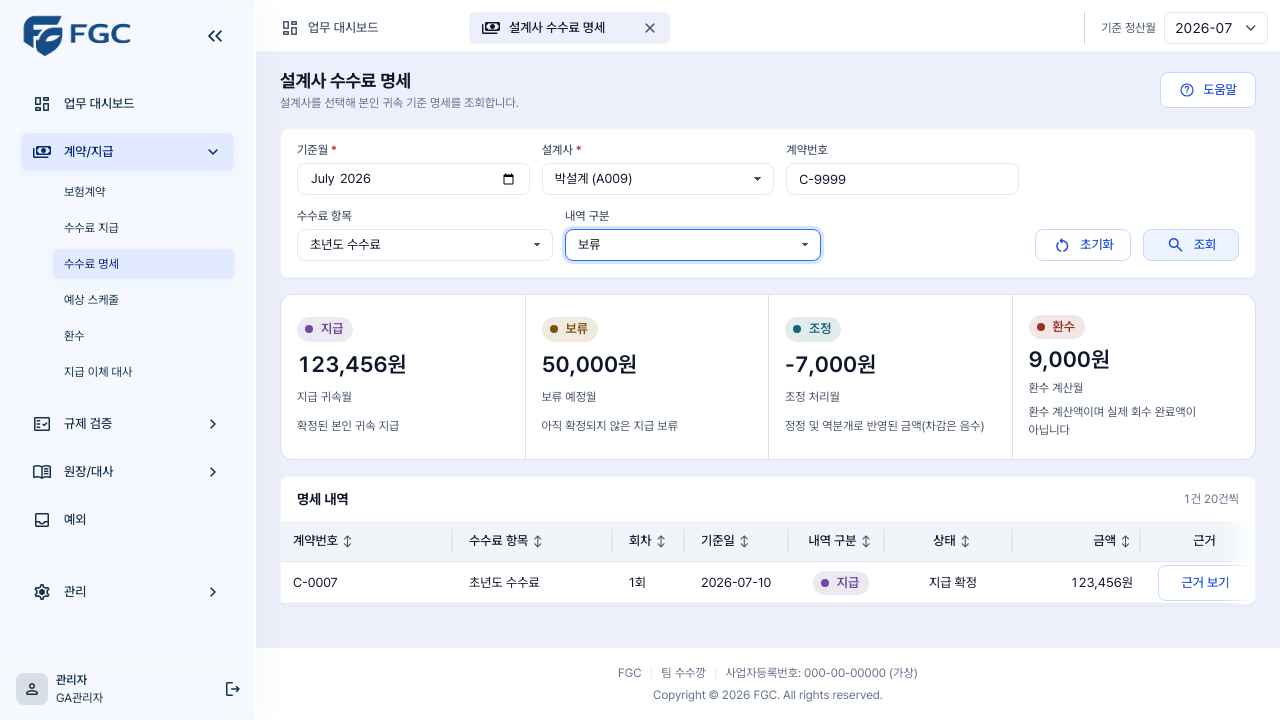
Test: RPT-W02 설계사 수수료 명세 › 조회 전 입력도 초기화하고 반복 초기화 시 기준월과 내부 설계사 선택을 유지한다
Earlier steps of the test are not shown.
Replace the text in the field labelled "기준월 *" with "2026-08". click: (413, 179)
box: top-left (297, 163), bottom-right (530, 195)
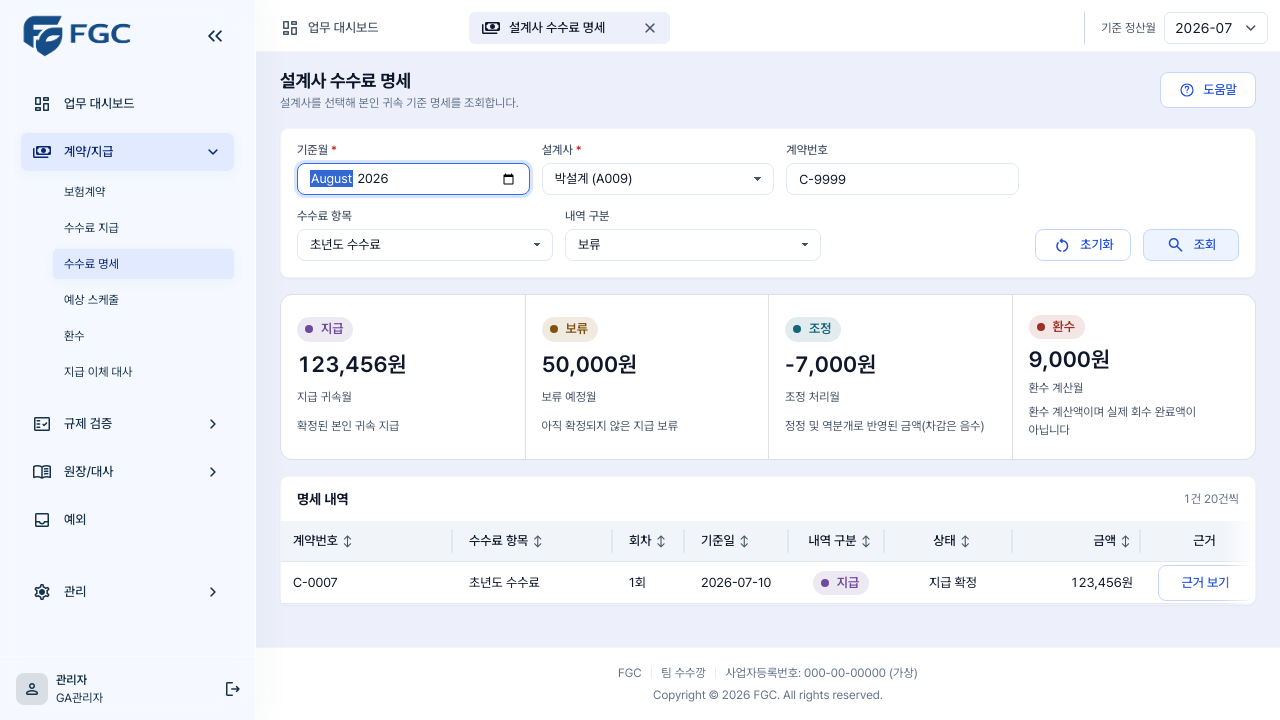
Click the button "초기화". click: (1083, 245)
box: top-left (1035, 229), bottom-right (1131, 261)
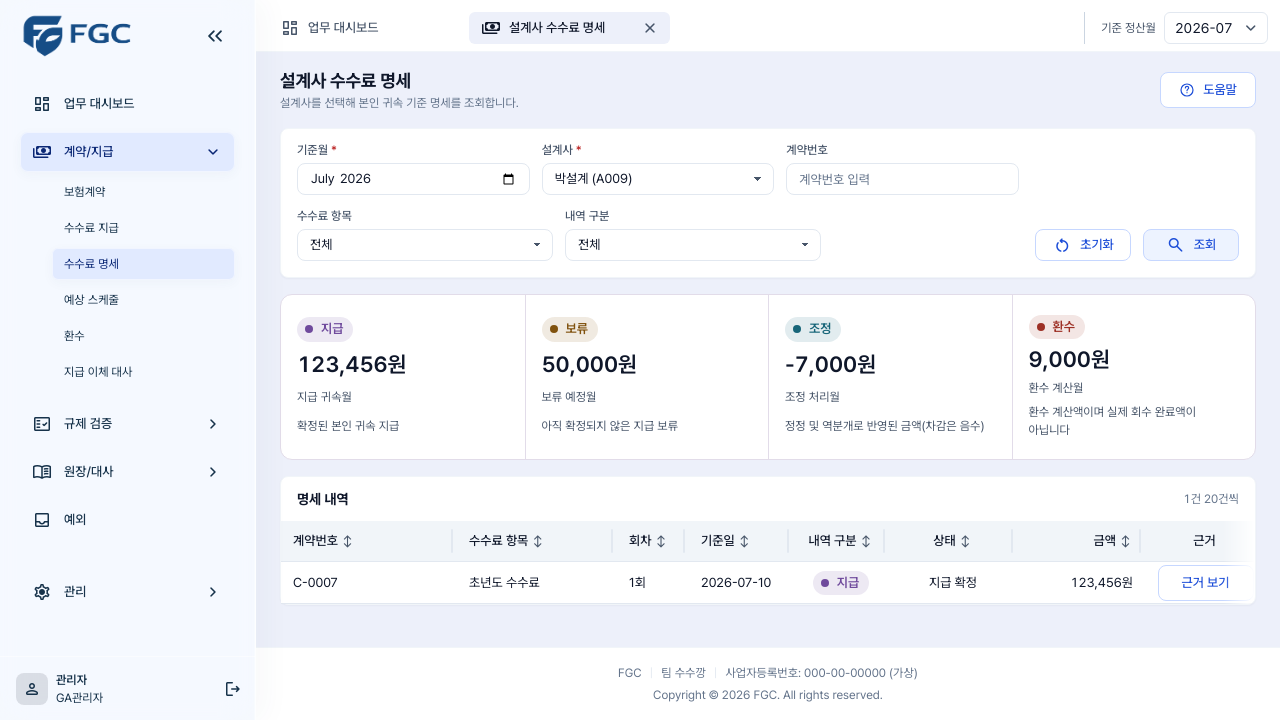
Expected: the search field with placeholder "계약번호 입력" is empty
Expected: the field labelled "기준월 *" holds "2026-07", top-left (297, 163), bottom-right (530, 195)
Expected: the dropdown labelled "수수료 항목" shows "전체", top-left (297, 229), bottom-right (553, 261)
Type "C-8888" into the search field with placeholder "계약번호 입력". click: (903, 179)
box: top-left (786, 163), bottom-right (1019, 195)
Select "초년도 수수료" in the dropdown labelled "수수료 항목". click: (425, 245)
box: top-left (297, 229), bottom-right (553, 261)
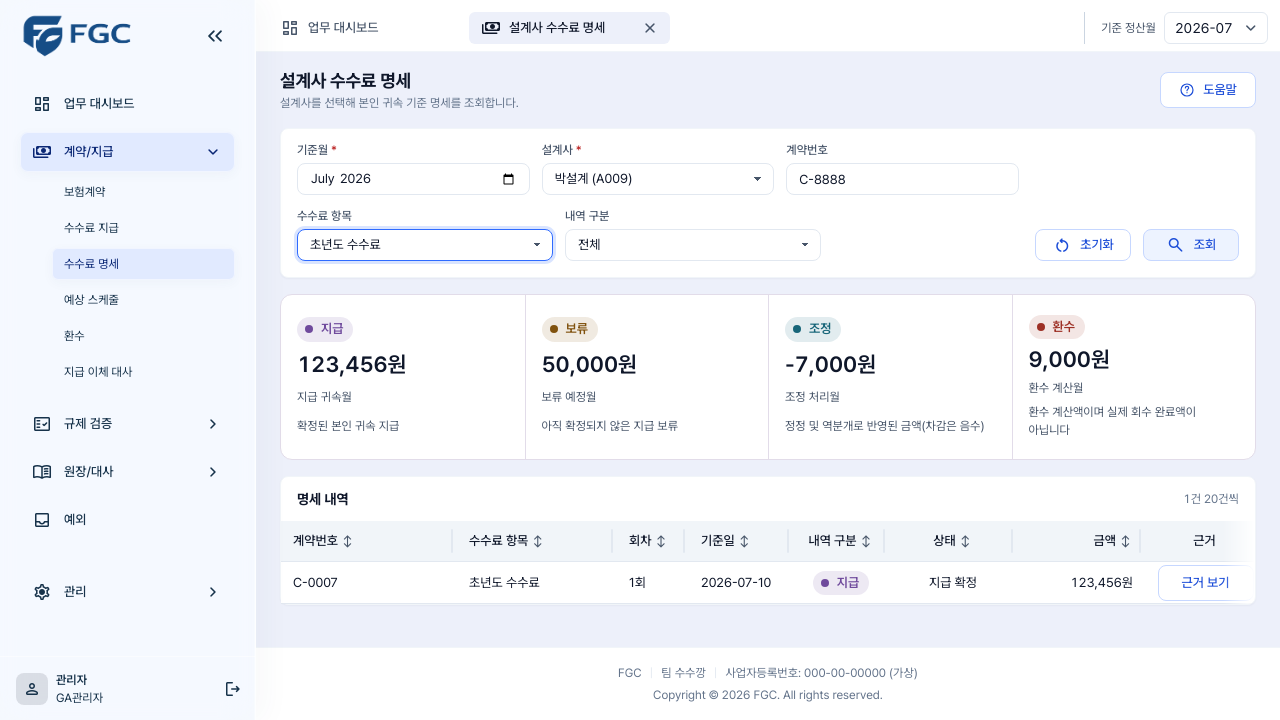
Select "보류" in the dropdown labelled "내역 구분". click: (693, 245)
box: top-left (565, 229), bottom-right (821, 261)
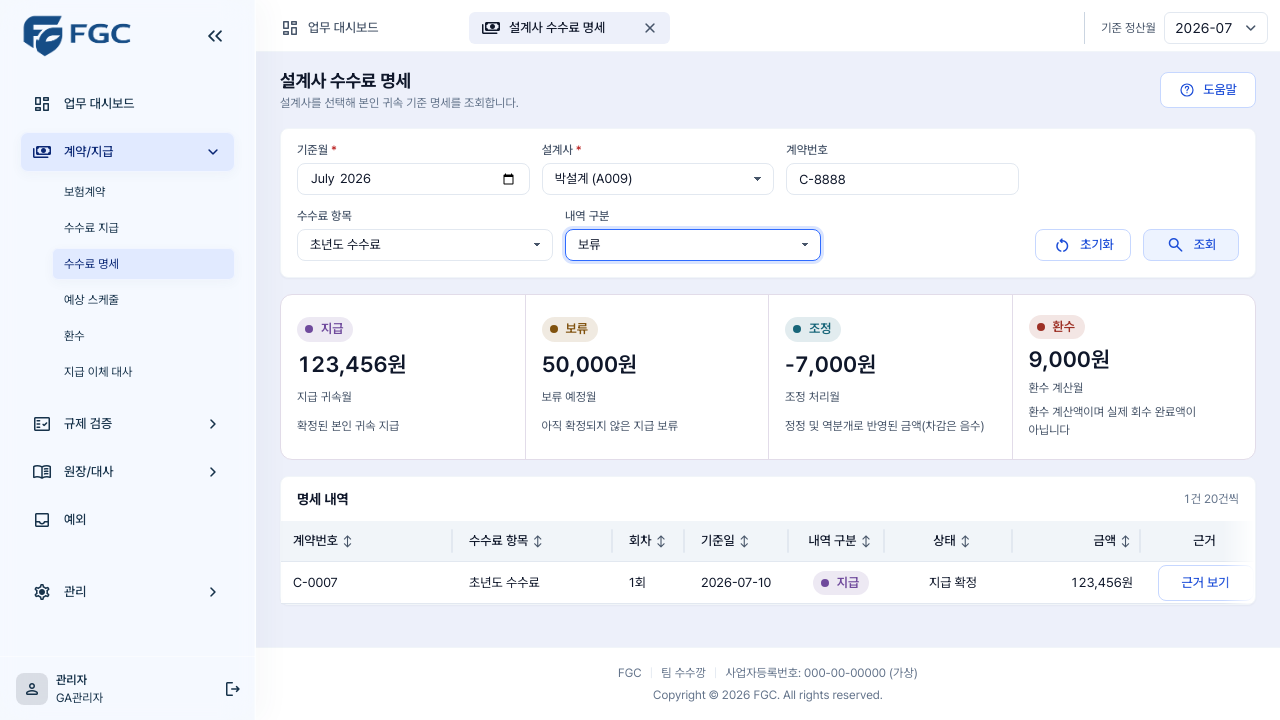
Replace the text in the field labelled "기준월 *" with "2026-08". click: (413, 179)
box: top-left (297, 163), bottom-right (530, 195)
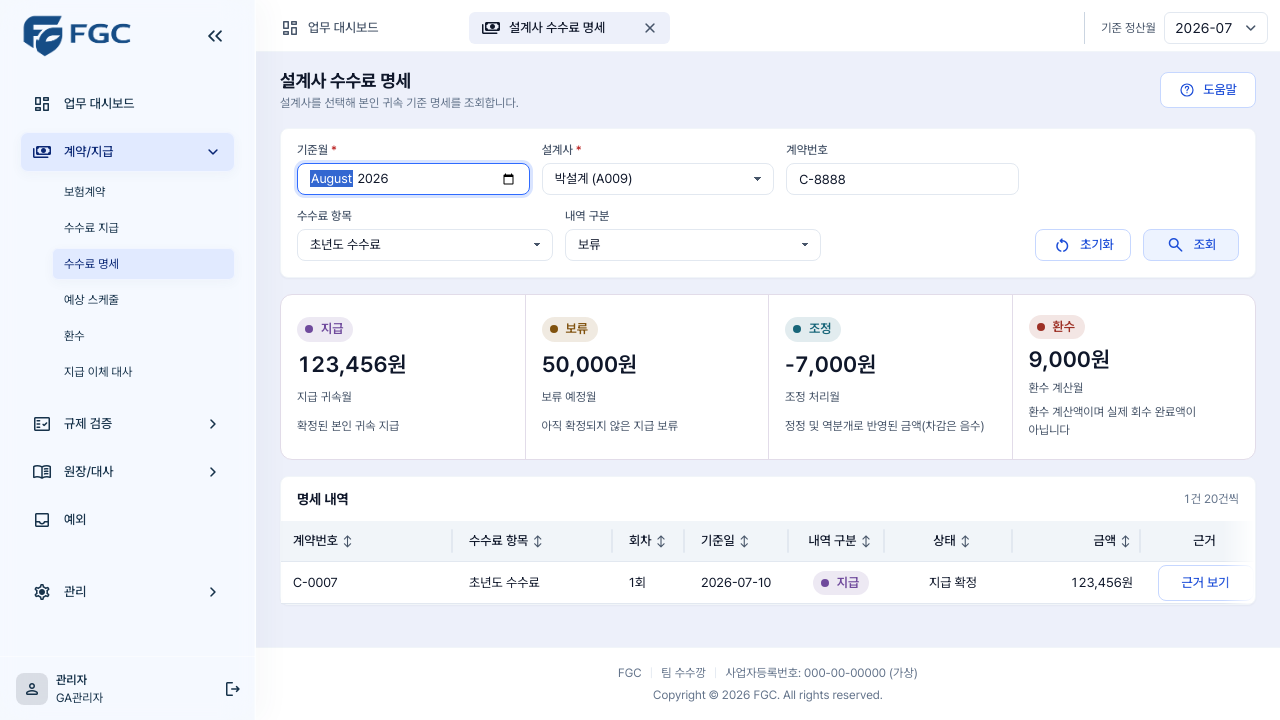
Click the button "초기화". click: (1083, 245)
box: top-left (1035, 229), bottom-right (1131, 261)
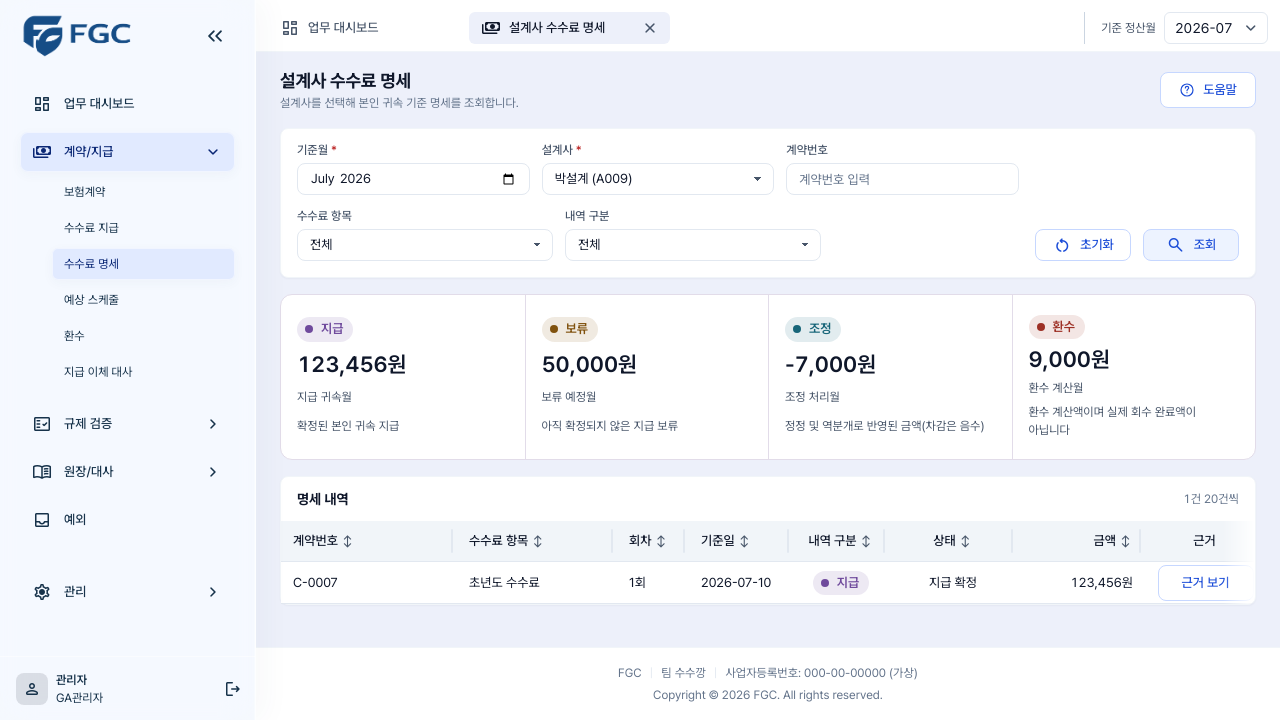
Expected: the search field with placeholder "계약번호 입력" is empty, top-left (786, 163), bottom-right (1019, 195)
Expected: the field labelled "기준월 *" holds "2026-07", top-left (297, 163), bottom-right (530, 195)
Expected: the dropdown labelled "수수료 항목" shows "전체", top-left (297, 229), bottom-right (553, 261)
